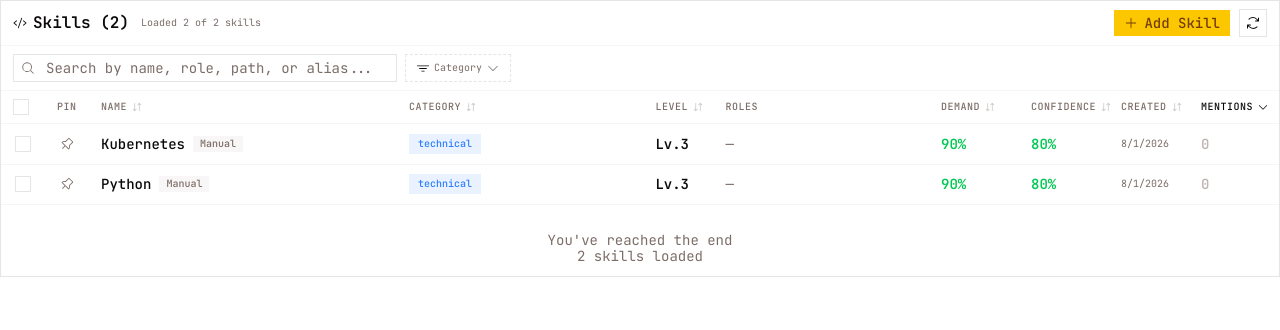
Test case: SkillsPage › selects all loaded skills via the header checkbox and shows the bulk bar
The image size is (1280, 330).
Click the checkbox named "Select all skills". click: {"x": 21, "y": 107}
box: top-left (13, 99), bottom-right (29, 115)
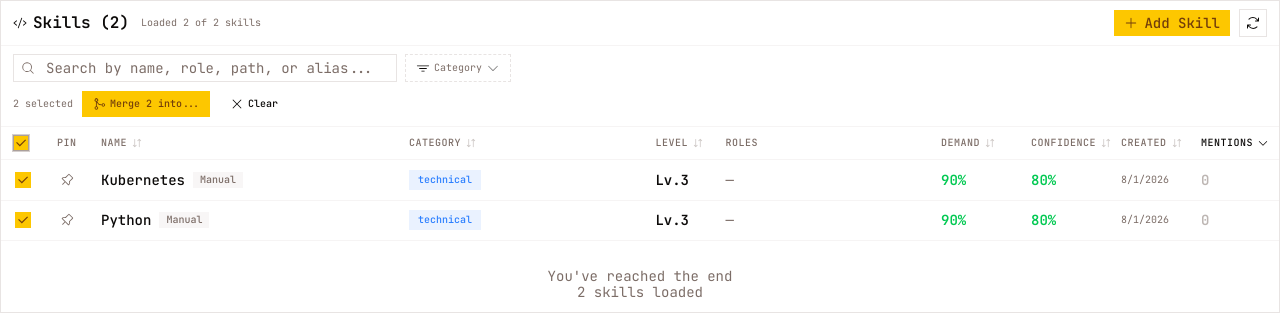
Result: the text "2 selected" is shown at top-left (13, 98), bottom-right (73, 110)
Result: the button "Merge 2 into..." is shown at top-left (81, 90), bottom-right (211, 118)
